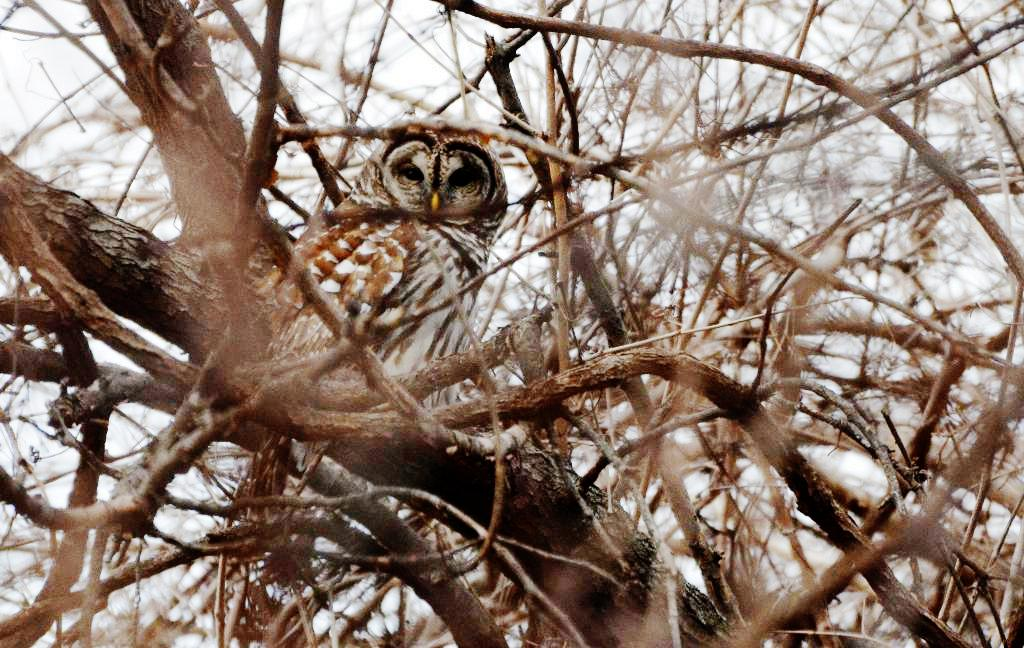Owl: (212, 111, 513, 647)
